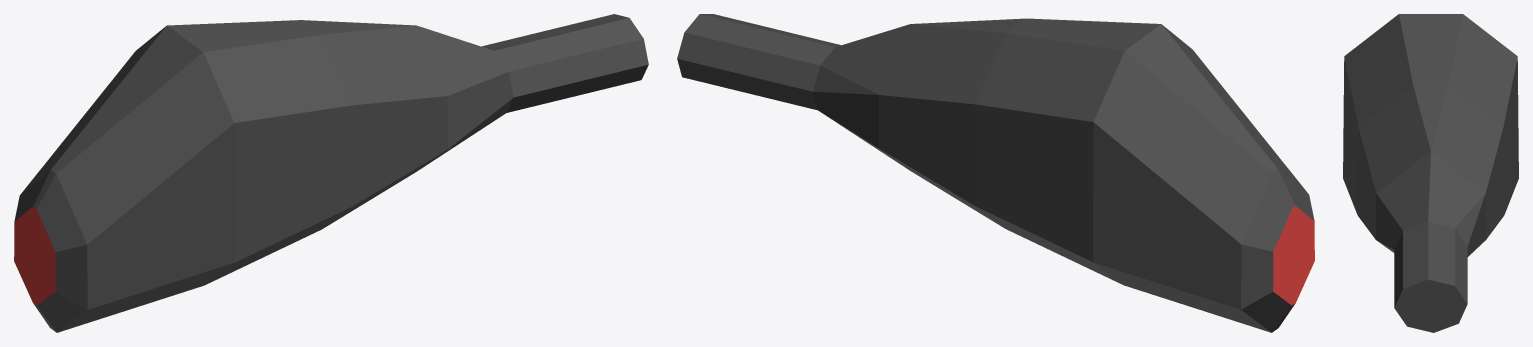
File: Props_ScannerBarcode.fbx
3 views of the same model, side by side, from view 1: azimuth 30°, elevation 25°; view 2: azimuth 150°, elevation 25°; view 3: azimuth 270°, elevation 25° (orthographic). The views are drawn at different scales.
Visible parts, largest first — view 1: Props_ScannerBarcode; view 2: Props_ScannerBarcode; view 3: Props_ScannerBarcode.
Part boxes in pixels (box(x1,y1,x2,y2)): Props_ScannerBarcode: box(14, 14, 648, 332); Props_ScannerBarcode: box(677, 14, 1314, 332); Props_ScannerBarcode: box(1343, 14, 1518, 332).
Bounding box in the file's own units: 46.68 × 19.52 × 13.64.
